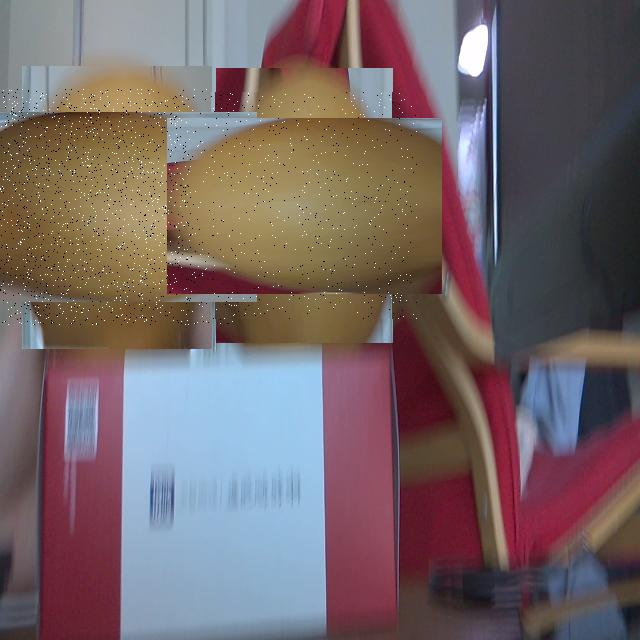pear: (0, 89, 235, 325), (192, 92, 418, 319)
